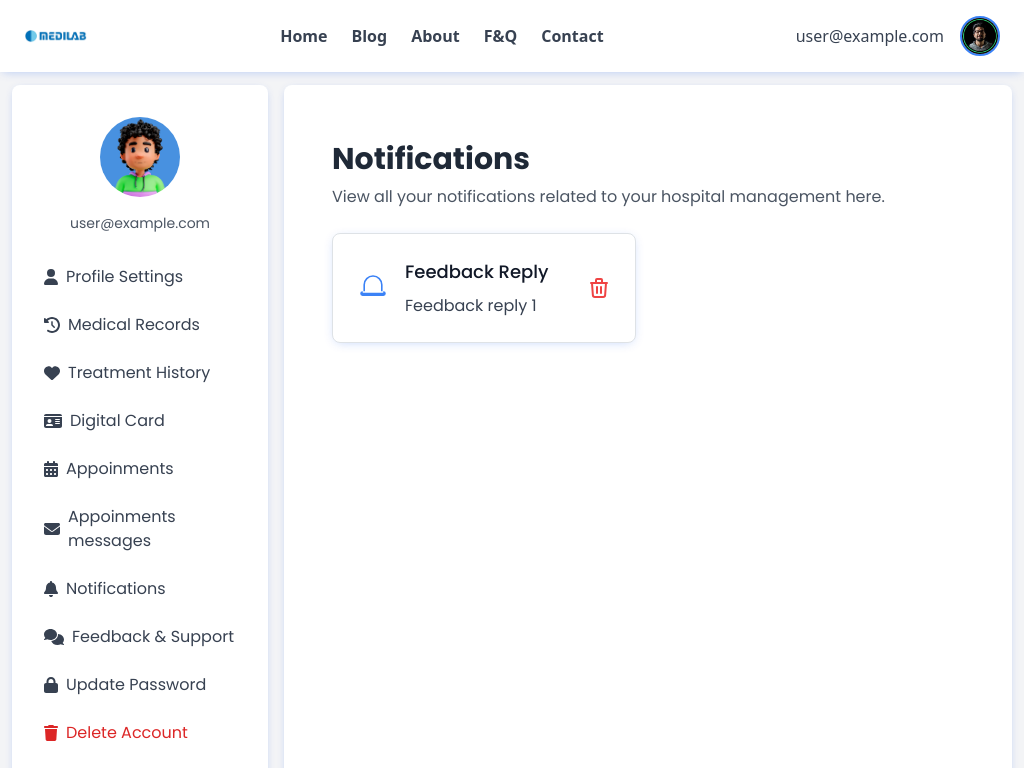
Scenario: NotificationPage Component › deletes a notification and shows success message
Expected: the text "Feedback reply 1" is shown, [405, 294, 537, 317]
Simulate delete action
Click the button titled "Delete Notification" at [599, 288], box [587, 276, 611, 300]
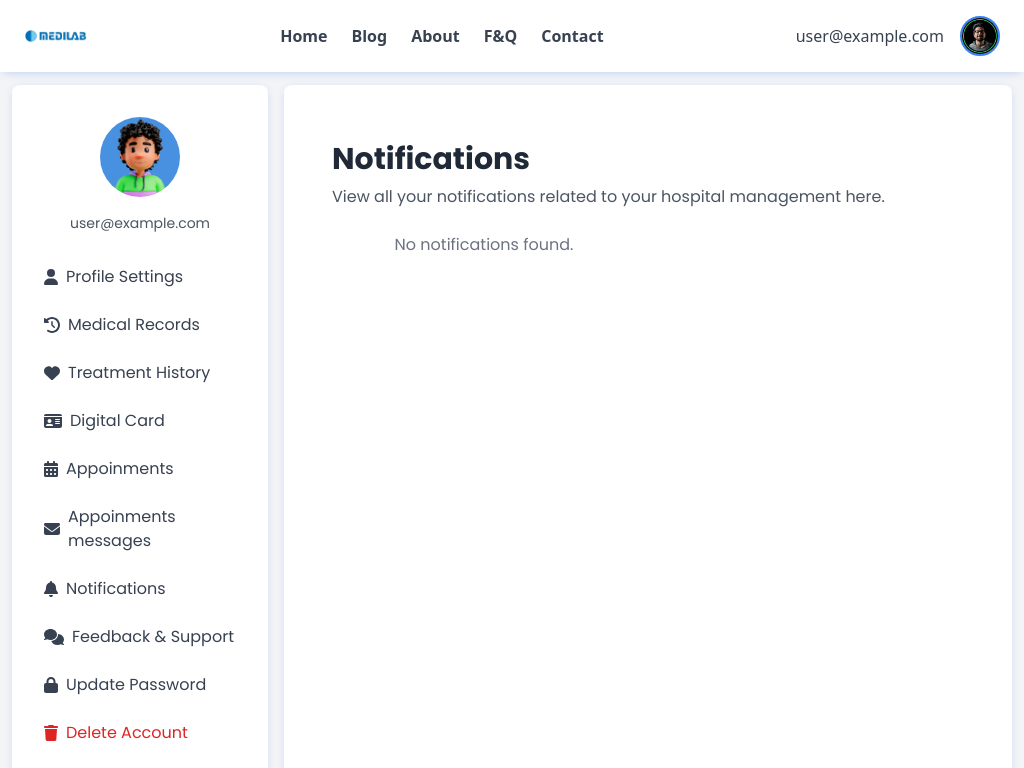
Now the text "Feedback reply 1" is gone
